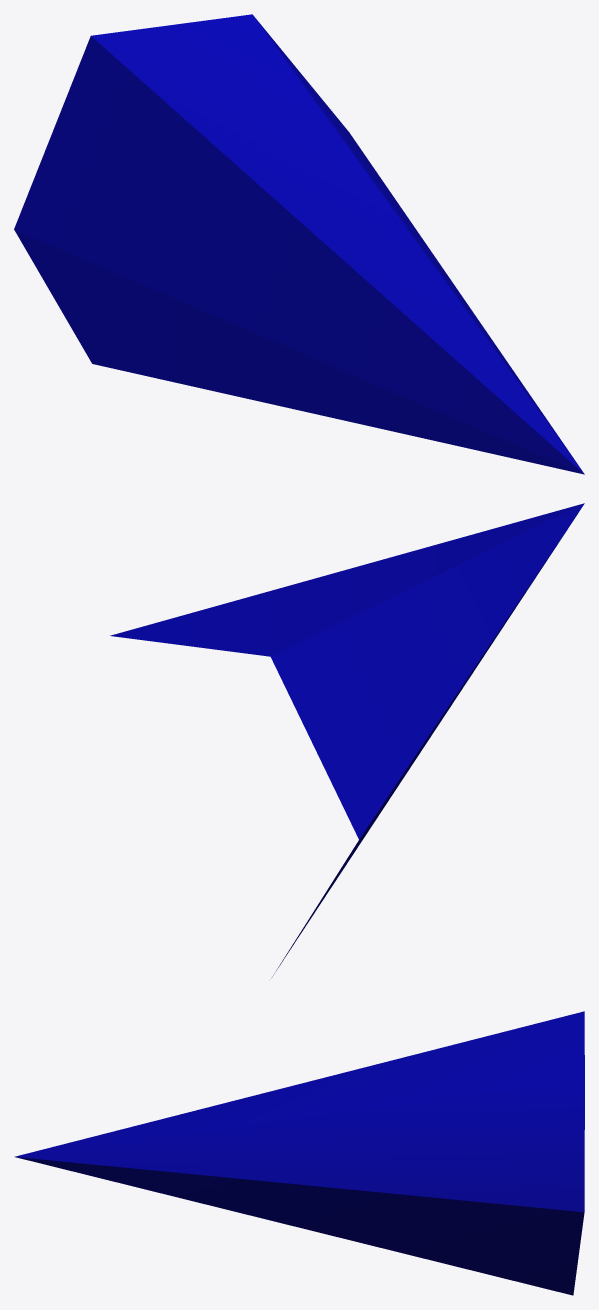
Rendered from realistic_crystal_blues.glb.
The picture shows the model from 3 angles, top to bottom: view 1: azimuth 30°, elevation 25°; view 2: azimuth 150°, elevation 25°; view 3: azimuth 270°, elevation 25°; orthographic projection. The views are drawn at different scales.
Parts seen in each view (by area): view 1: world; view 2: world; view 3: world.
Boxes of the visible parts, bbox=[...] form: world: bbox=[14, 14, 584, 474]; world: bbox=[110, 503, 584, 976]; world: bbox=[14, 1011, 584, 1295].
Bounding box in the file's own units: 0.9965 × 0.9168 × 2.05.
